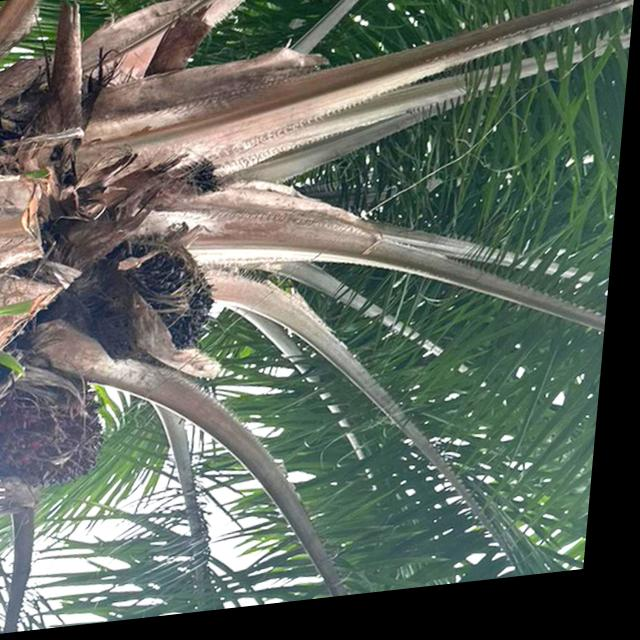unripe: (67, 237, 230, 378)
